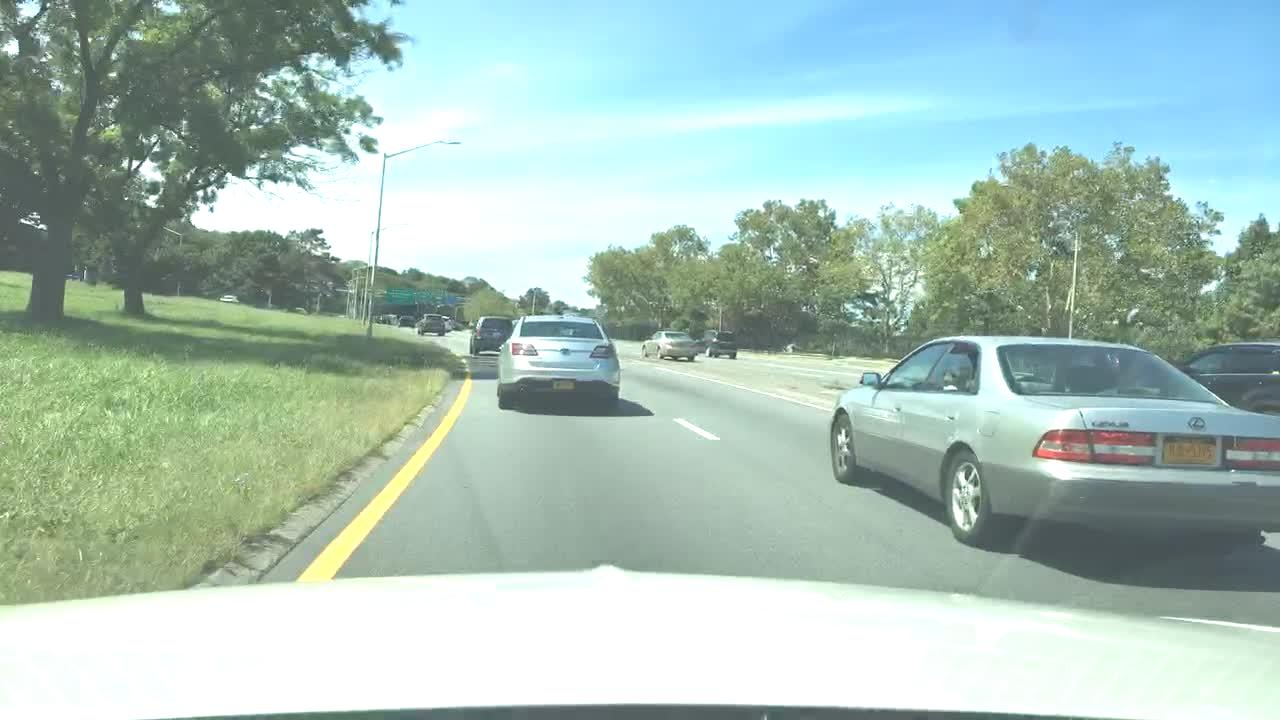lexus: (1184, 412, 1211, 435)
